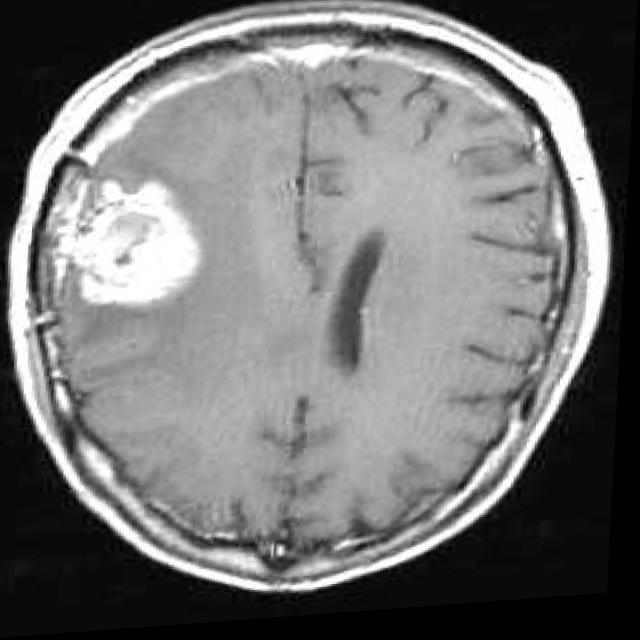Tumor: (58, 181, 198, 307)
